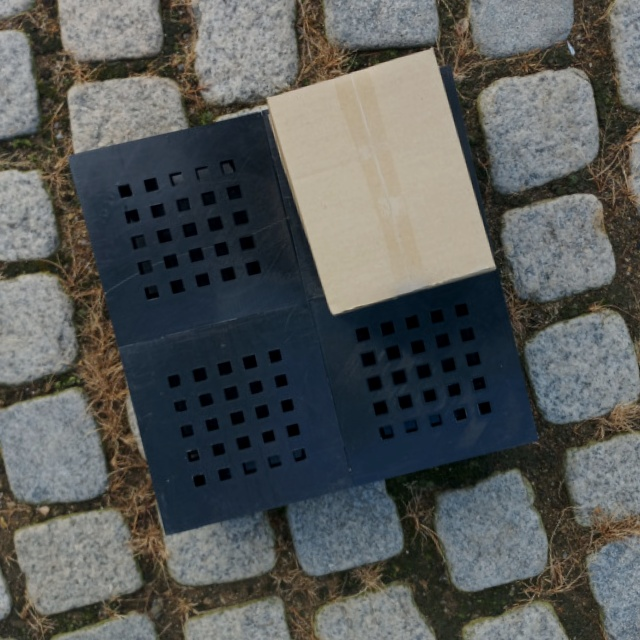box: (261, 46, 497, 323)
pallet: (52, 72, 565, 548)
